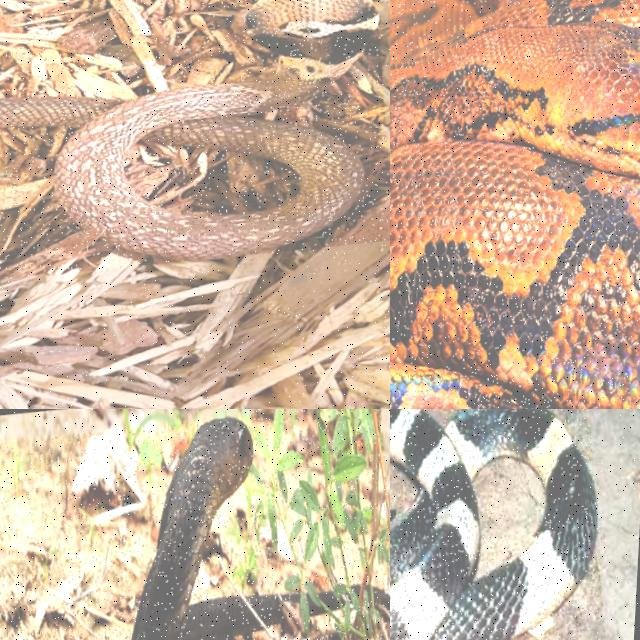Bungarus candidus: (390, 409, 597, 639)
Malayopython reticulatus: (390, 0, 639, 408)
Naja kaouthia: (0, 0, 377, 260)
Naja siamensis: (132, 418, 283, 639)
